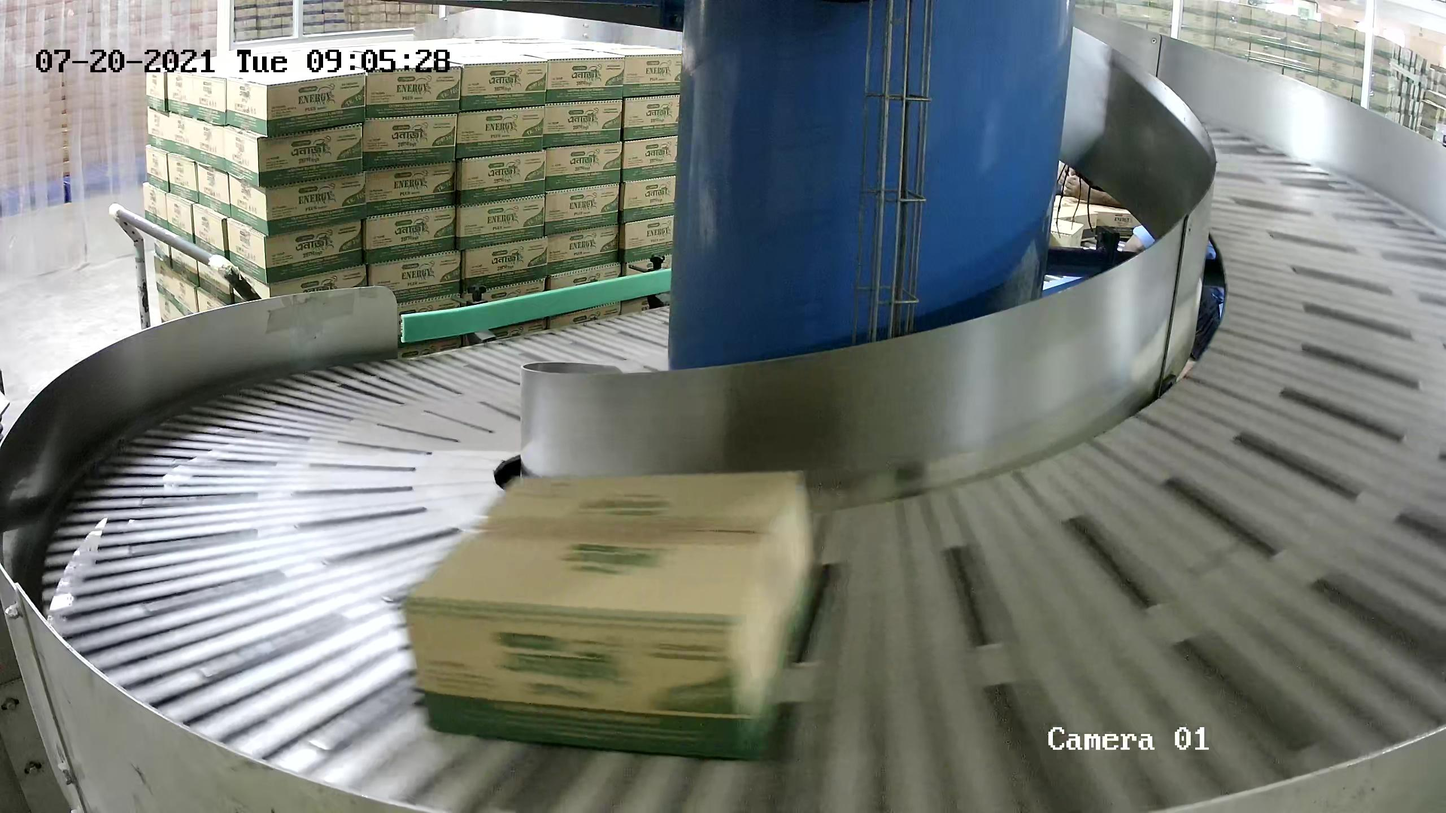Box: (397, 466, 819, 766)
